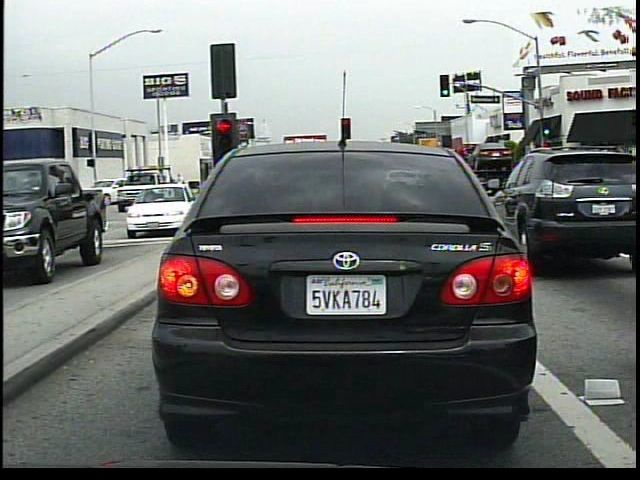person: (172, 167, 193, 192)
